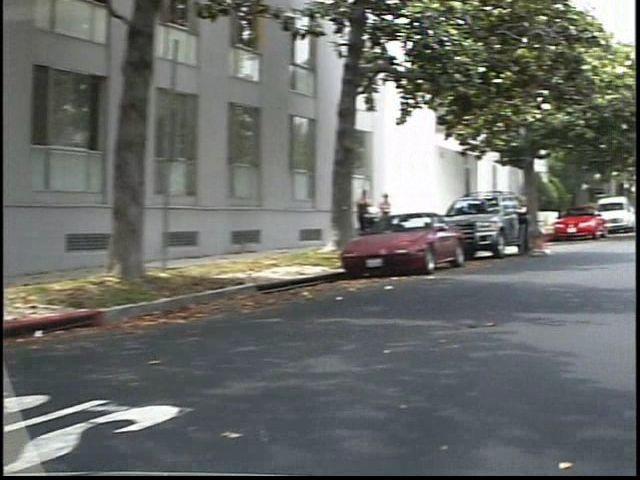person: (526, 191, 555, 261), (367, 182, 393, 250), (390, 187, 412, 244)
